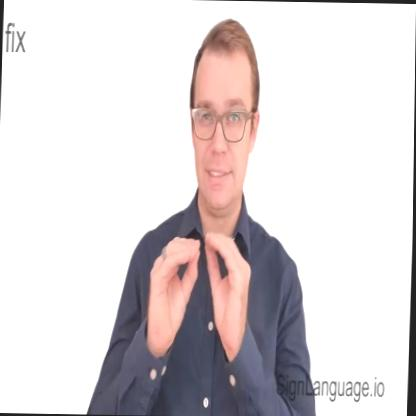Fix: (145, 218, 257, 372)
